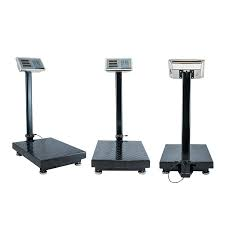Industrial Scale: (10, 56, 87, 176), (90, 58, 151, 176), (159, 58, 215, 184)
